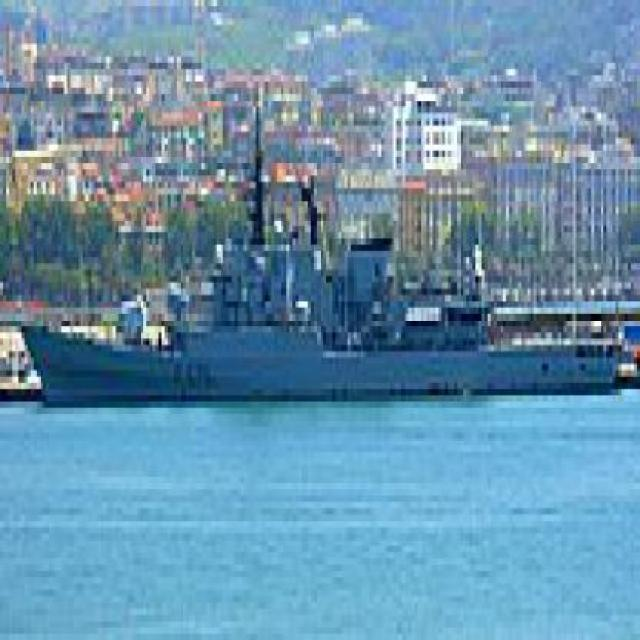warship2: (20, 126, 629, 428)
